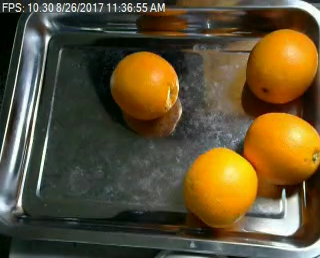Orange: (183, 147, 257, 227), (242, 110, 319, 184), (246, 28, 318, 103), (109, 51, 179, 118)
